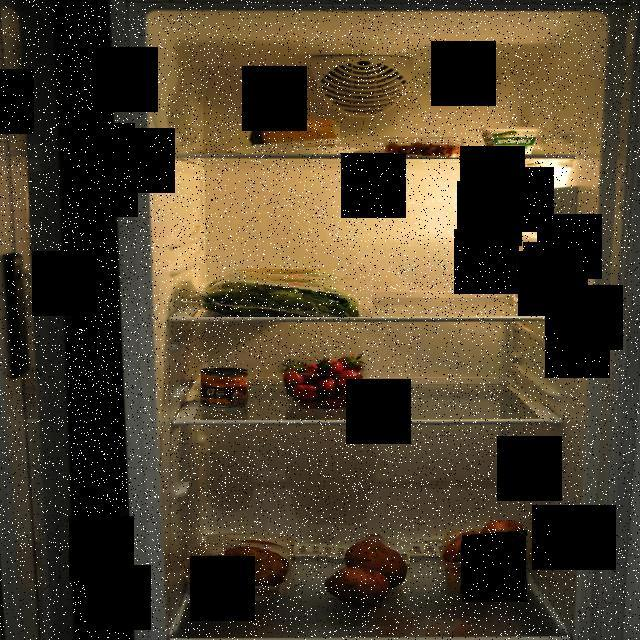cheese: (247, 120, 341, 152)
corn: (200, 368, 248, 408)
goat_cheese: (476, 124, 548, 154)
onion: (440, 520, 528, 596)
potato: (187, 536, 291, 596)
shrimp: (381, 139, 464, 159)
spinach: (183, 267, 373, 317)
strawberries: (280, 353, 368, 409)
sweet_potato: (322, 532, 410, 608)
